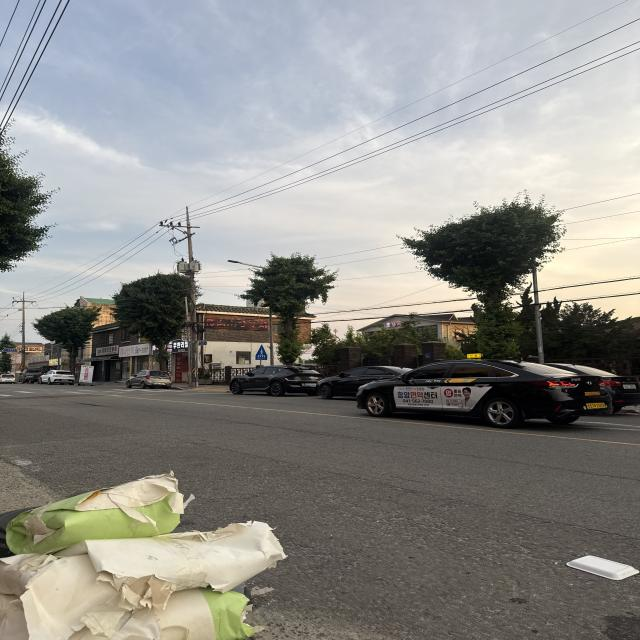car: (385, 358, 576, 423), (227, 364, 328, 396), (125, 369, 174, 389), (39, 367, 75, 384)
